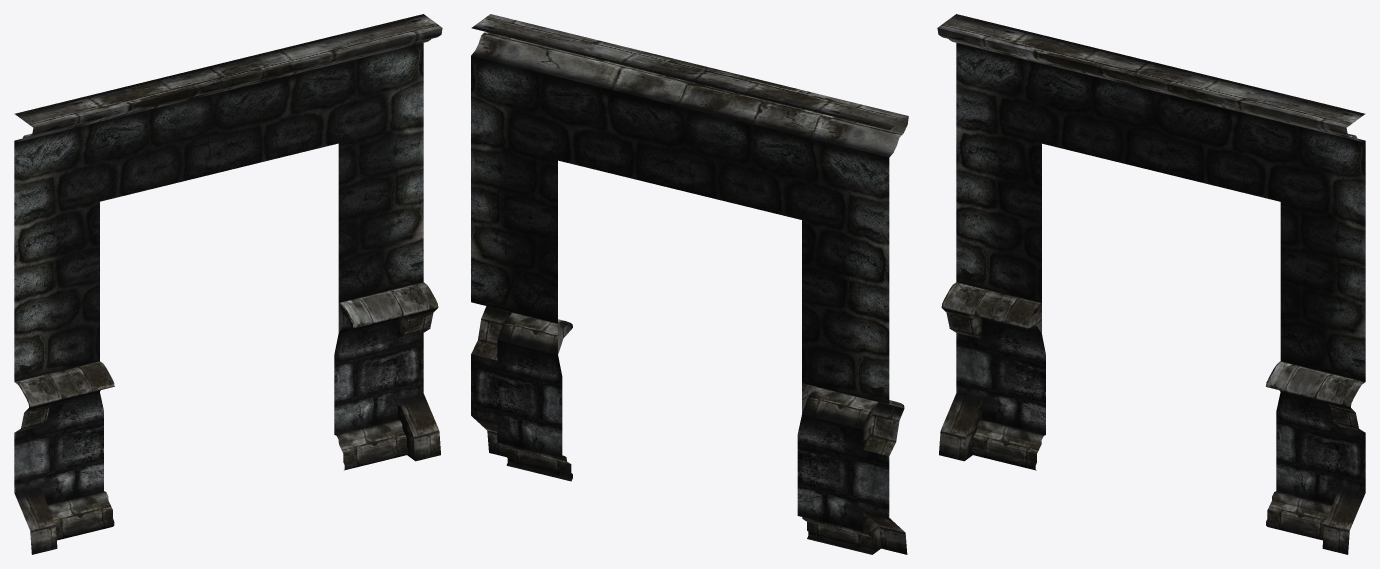
File: door_way.dae
The picture shows the model from 3 angles, left to right: view 1: azimuth 30°, elevation 25°; view 2: azimuth 150°, elevation 25°; view 3: azimuth 330°, elevation 25°; orthographic projection. The views are drawn at different scales.
Visible parts, largest first — view 1: polySurface125; view 2: polySurface125; view 3: polySurface125.
Part boxes in pixels (left/top/right/bottom): polySurface125: left=14, top=14, right=442, bottom=554; polySurface125: left=471, top=14, right=908, bottom=554; polySurface125: left=937, top=14, right=1365, bottom=554.
Size of the model in its own units: 4 by 4 by 0.3219.
